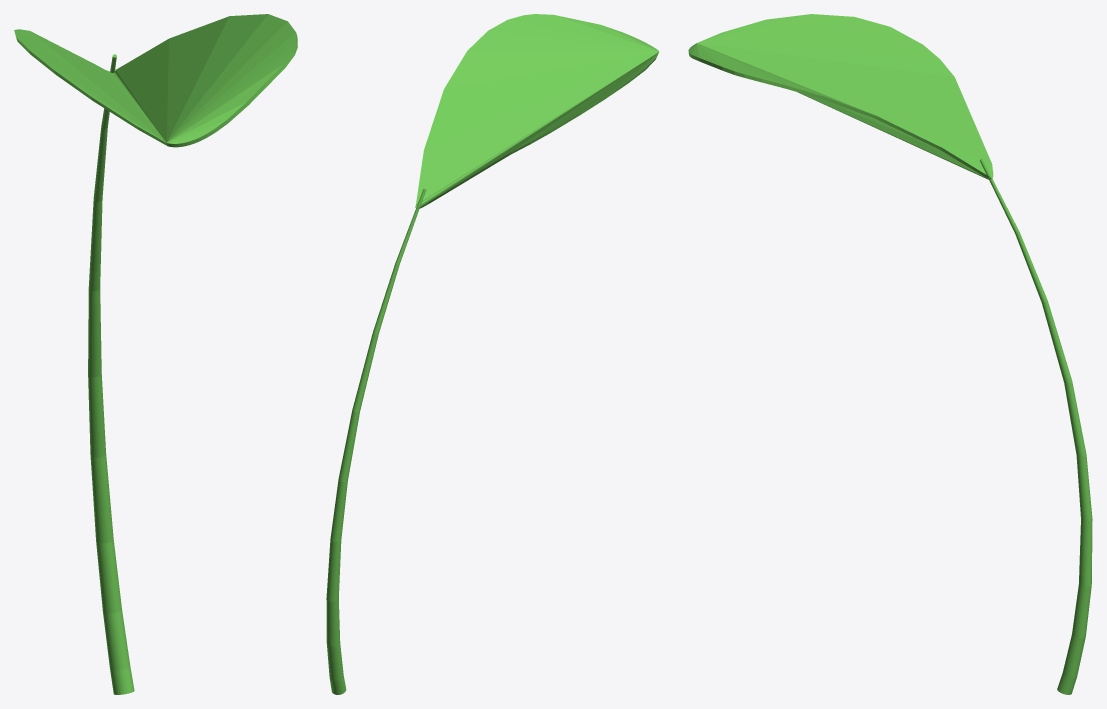
3 views of the same model, side by side, from view 1: azimuth 30°, elevation 25°; view 2: azimuth 150°, elevation 25°; view 3: azimuth 270°, elevation 25° (orthographic). The views are drawn at different scales.
Parts seen in each view (by area): view 1: Extrude, Sweep; view 2: Extrude, Sweep; view 3: Extrude, Sweep.
Part boxes in pixels (x1,y1,x2,y2): Extrude: [14, 14, 297, 147]; Sweep: [88, 54, 134, 694]; Extrude: [415, 14, 659, 208]; Sweep: [326, 189, 425, 694]; Extrude: [688, 14, 993, 179]; Sweep: [979, 159, 1092, 694].
Bounding box in the file's own units: 220 × 688 × 418.
